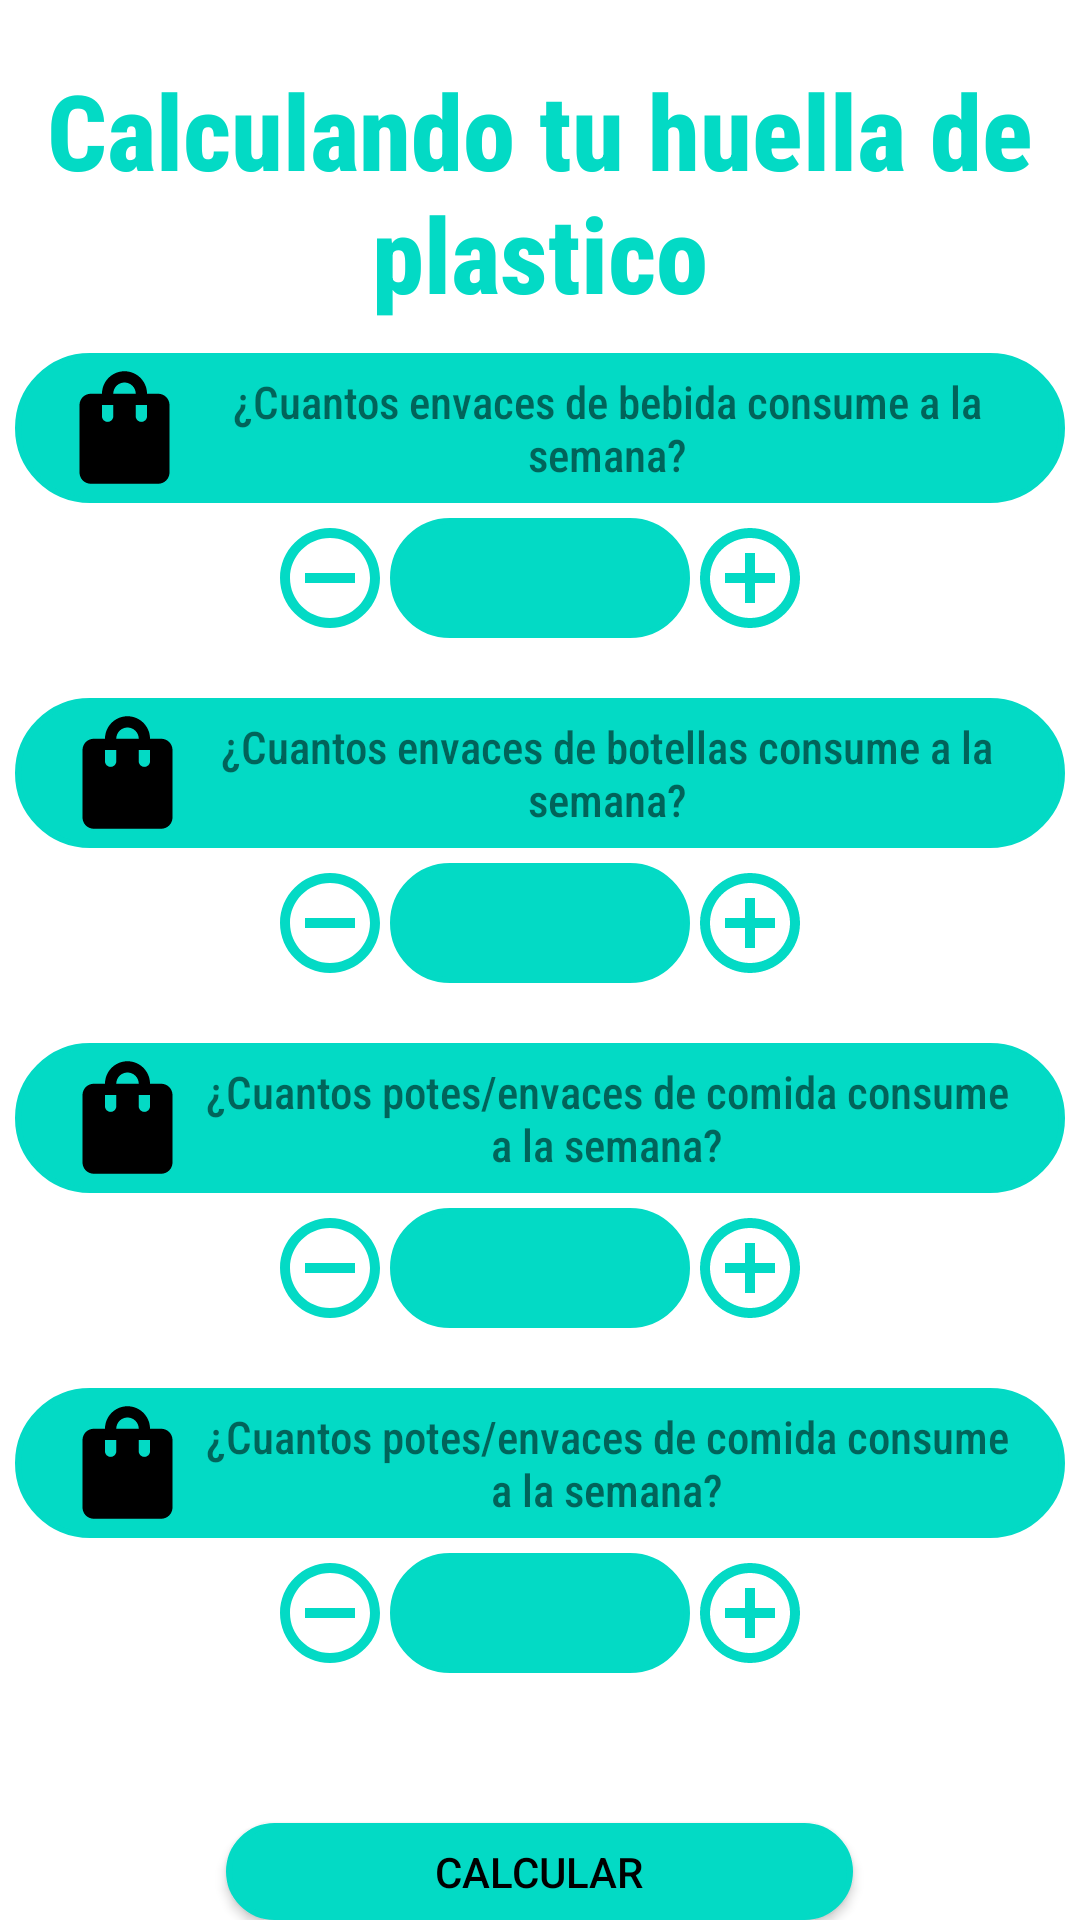

Where to tap for icons on this 1080px×1920px app screen, as (x,y):
minus: (330,578), (330,923), (330,1268), (330,1613)
plus: (750,578), (750,923), (750,1268), (750,1613)
